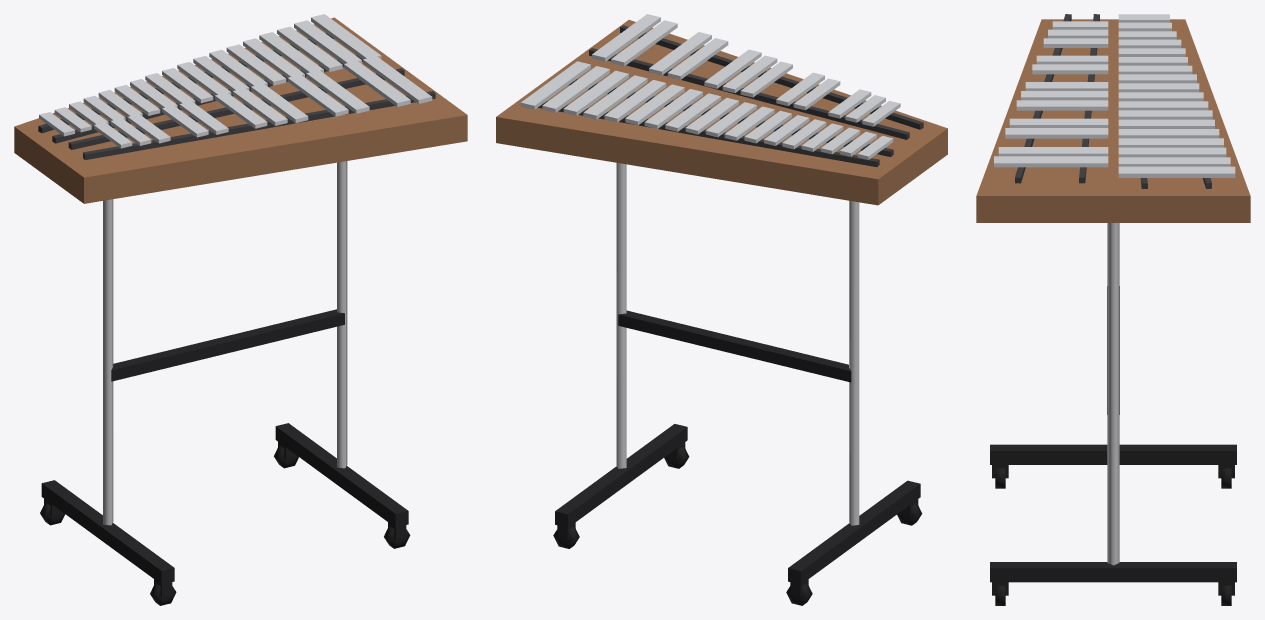
The model's file is glockenspiel-2.5-low.glb.
3 views of the same model, side by side, from view 1: azimuth 30°, elevation 25°; view 2: azimuth 150°, elevation 25°; view 3: azimuth 270°, elevation 25° (orthographic). The views are drawn at different scales.
Visible parts, largest first — view 1: wood, bars-steel, frame, metal, felt, rubber; view 2: wood, bars-steel, frame, metal, felt, rubber; view 3: bars-steel, wood, frame, metal, felt, rubber.
Boxes of the visible parts, bbox=[...] form: wood: bbox=[14, 17, 467, 203]; bars-steel: bbox=[39, 14, 432, 148]; frame: bbox=[41, 309, 408, 596]; metal: bbox=[103, 161, 347, 525]; felt: bbox=[38, 33, 435, 159]; rubber: bbox=[40, 445, 410, 605]; wood: bbox=[496, 20, 947, 205]; bars-steel: bbox=[520, 14, 900, 159]; frame: bbox=[555, 310, 920, 596]; metal: bbox=[616, 162, 859, 525]; felt: bbox=[538, 25, 923, 167]; rubber: bbox=[553, 446, 922, 605]; bars-steel: bbox=[994, 14, 1235, 177]; wood: bbox=[976, 19, 1250, 222]; frame: bbox=[990, 286, 1236, 595]; metal: bbox=[1107, 223, 1119, 565]; felt: bbox=[1015, 14, 1211, 188]; rubber: bbox=[995, 468, 1231, 605].
Size of the model in its own units: 0.8128 by 0.9787 by 0.5334.
